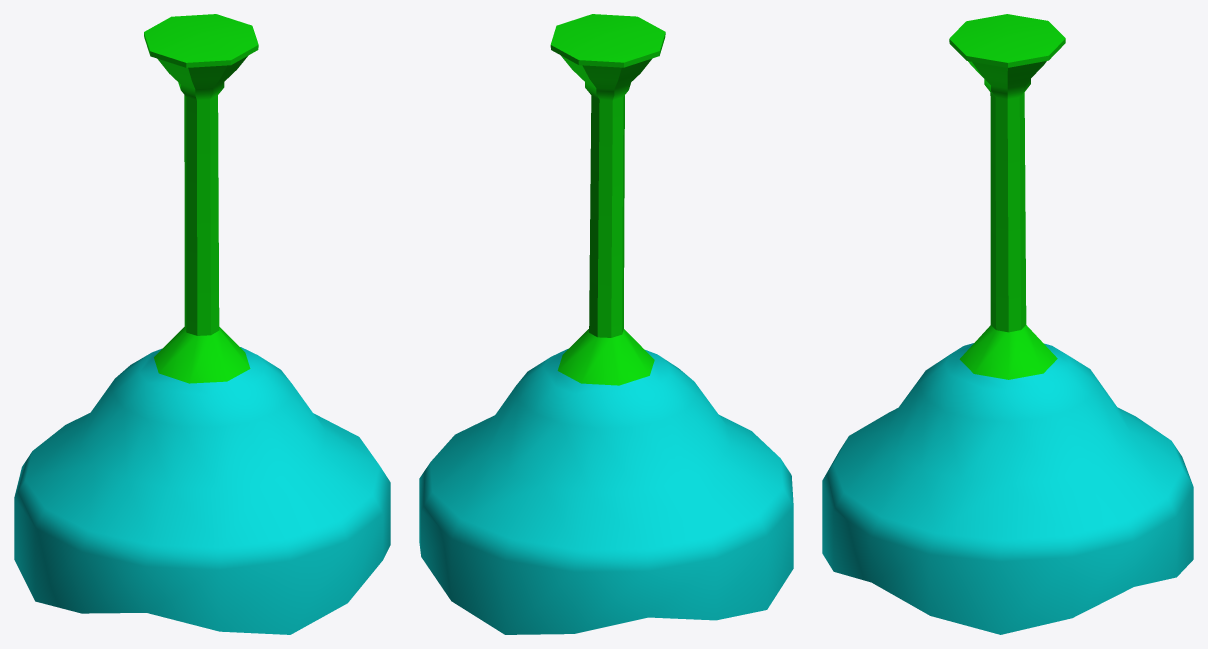
Rendered from lampa_!.fbx.
The picture shows the model from 3 angles, left to right: view 1: azimuth 30°, elevation 25°; view 2: azimuth 150°, elevation 25°; view 3: azimuth 270°, elevation 25°; orthographic projection. The views are drawn at different scales.
Parts seen in each view (by area): view 1: lampa_1; view 2: lampa_1; view 3: lampa_1.
Part boxes in pixels (<box>): lampa_1: <box>14,14,390,634</box>; lampa_1: <box>419,14,793,634</box>; lampa_1: <box>822,14,1193,634</box>.
Size of the model in its own units: 8.67 by 13.44 by 8.67.
